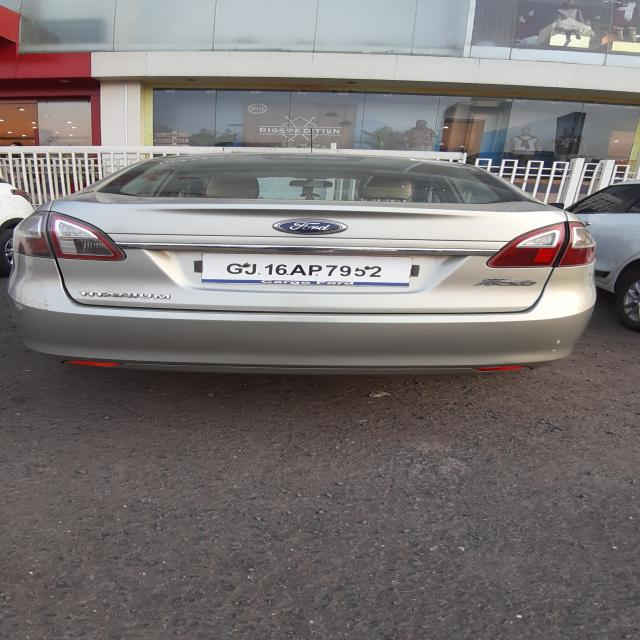Number-Plate: (206, 258, 410, 285)
